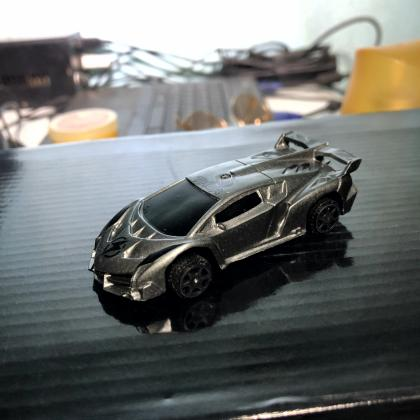Car: (83, 122, 366, 307)
